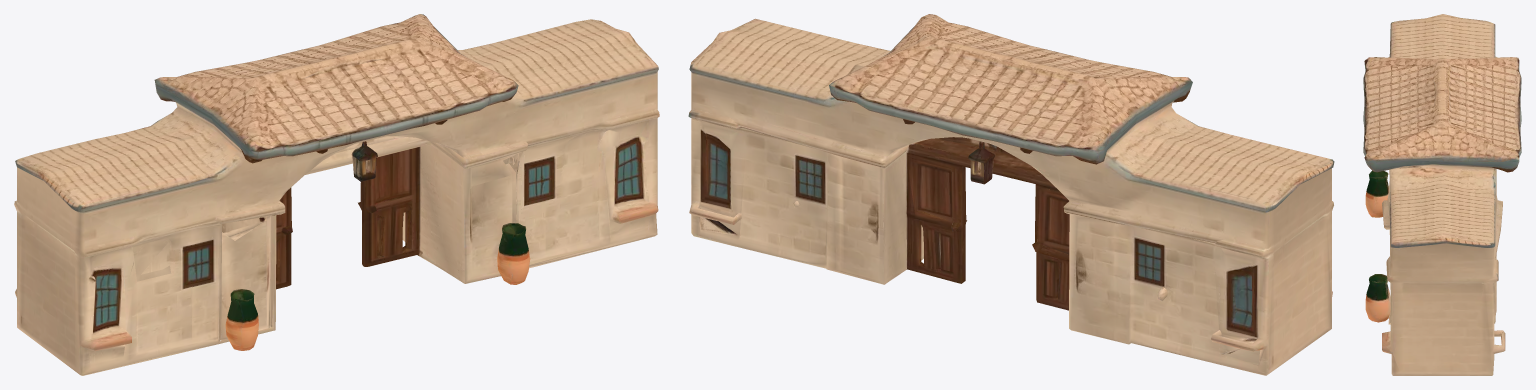
Rendered from kurudere_han.glb.
The picture shows the model from 3 angles, left to right: view 1: azimuth 30°, elevation 25°; view 2: azimuth 150°, elevation 25°; view 3: azimuth 270°, elevation 25°; orthographic projection. The views are drawn at different scales.
Bounding box in the file's own units: 1.91 × 0.7007 × 0.5676.
Materials: 1 (1 with a texture image).
